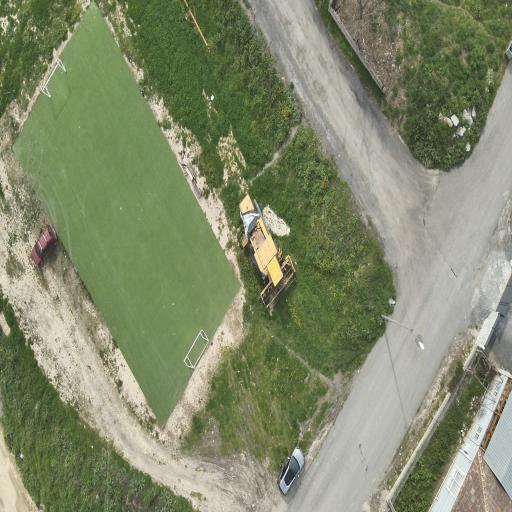car: (278, 447, 304, 495), (32, 224, 58, 266)
harvester: (240, 194, 295, 310)
